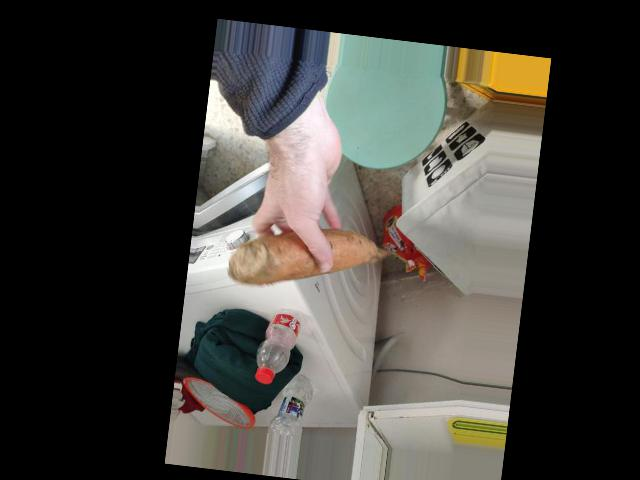sweet_potato: (229, 227, 393, 291)
